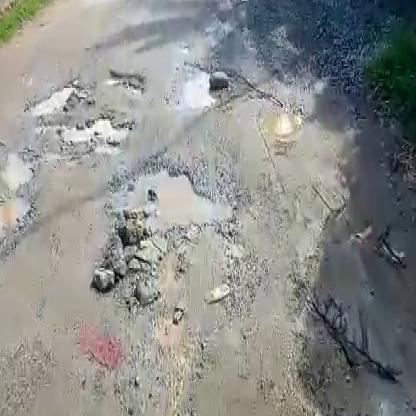pothole: (111, 157, 240, 227), (0, 148, 32, 267), (67, 112, 133, 147), (27, 83, 80, 121), (260, 103, 304, 147), (178, 63, 215, 111), (105, 67, 146, 94)
